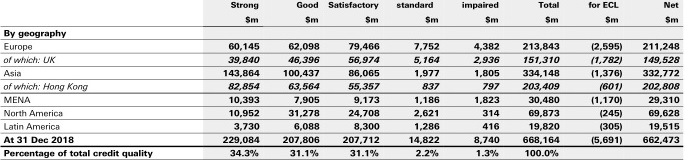column: (3, 1, 152, 161), (327, 1, 381, 161), (396, 1, 441, 161), (461, 1, 502, 161), (282, 1, 322, 161), (522, 1, 561, 161), (222, 1, 260, 160), (642, 1, 679, 161), (588, 1, 623, 161)
row: (1, 55, 685, 66), (1, 136, 685, 146), (1, 29, 685, 38), (1, 96, 685, 105), (1, 149, 685, 158), (1, 43, 685, 51), (1, 109, 685, 117), (1, 122, 685, 130), (1, 1, 684, 9), (1, 70, 684, 78), (1, 82, 683, 90), (1, 17, 685, 24)
